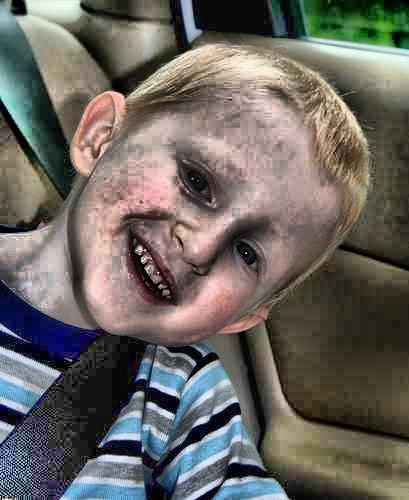seatbelt: (6, 340, 153, 484), (3, 9, 94, 198)
